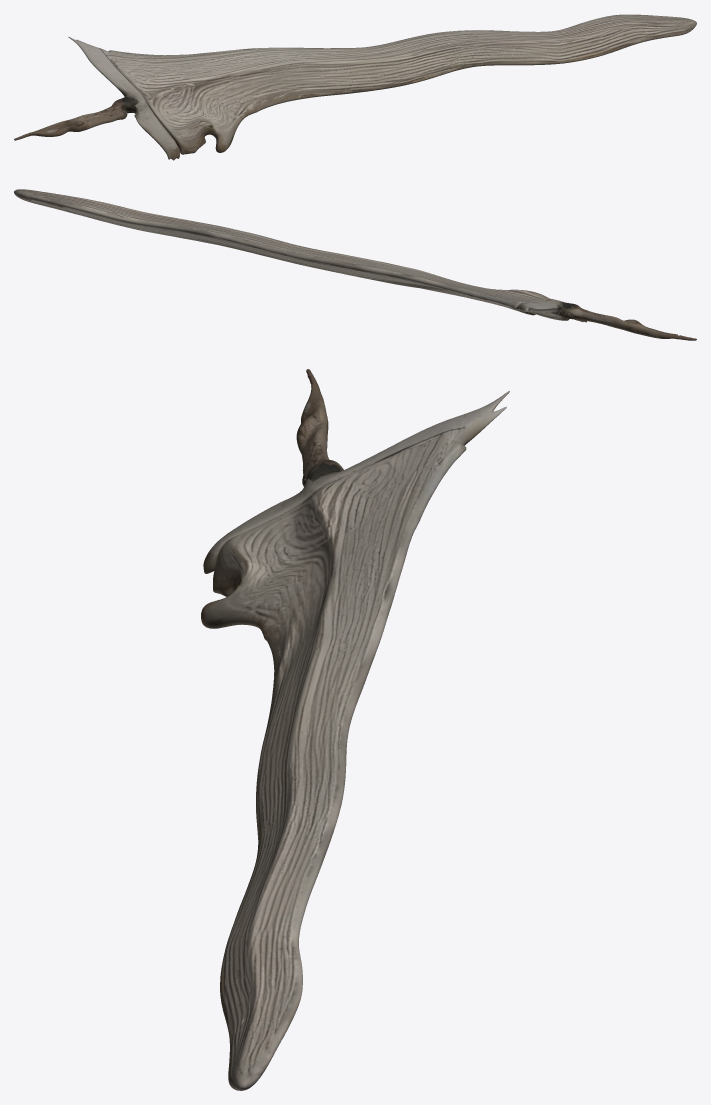
The model's file is kris-luk.glb.
3 views of the same model, one above another, from view 1: azimuth 30°, elevation 25°; view 2: azimuth 150°, elevation 25°; view 3: azimuth 270°, elevation 25° (orthographic). The views are drawn at different scales.
Visible parts, largest first — view 1: node_0; view 2: node_0; view 3: node_0.
Boxes of the visible parts, x1,y1,x2,y2 form: node_0: [14, 14, 696, 160]; node_0: [14, 189, 696, 340]; node_0: [201, 369, 509, 1090].
Bounding box in the file's own units: 1.18 × 0.136 × 0.2373.
1 material, 1 textured.
